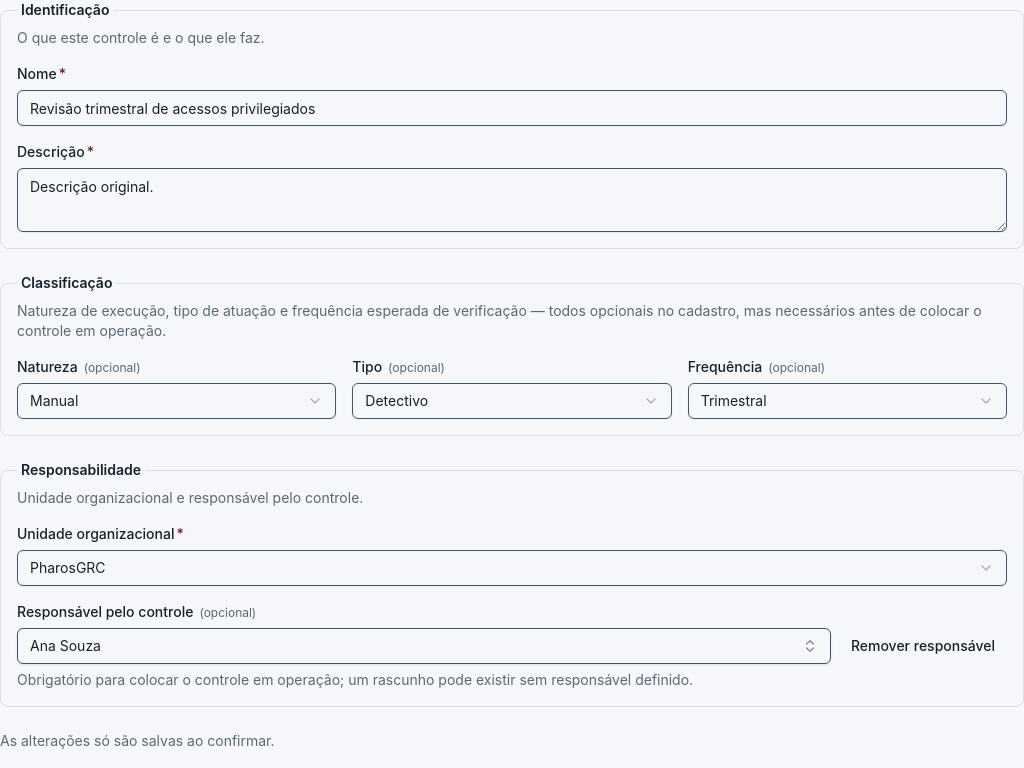
ControlForm › owner picker uses the ASSIGNMENT listing for the form’s selected org unit › requests the assignment listing for the org unit already selected, never the caller’s browse scope
Expected: the field labelled "Nome*" is enabled, [17,90,1007,126]
Click the dropdown named "Responsável pelo controle" at (65, 646), box [17,628,831,664]
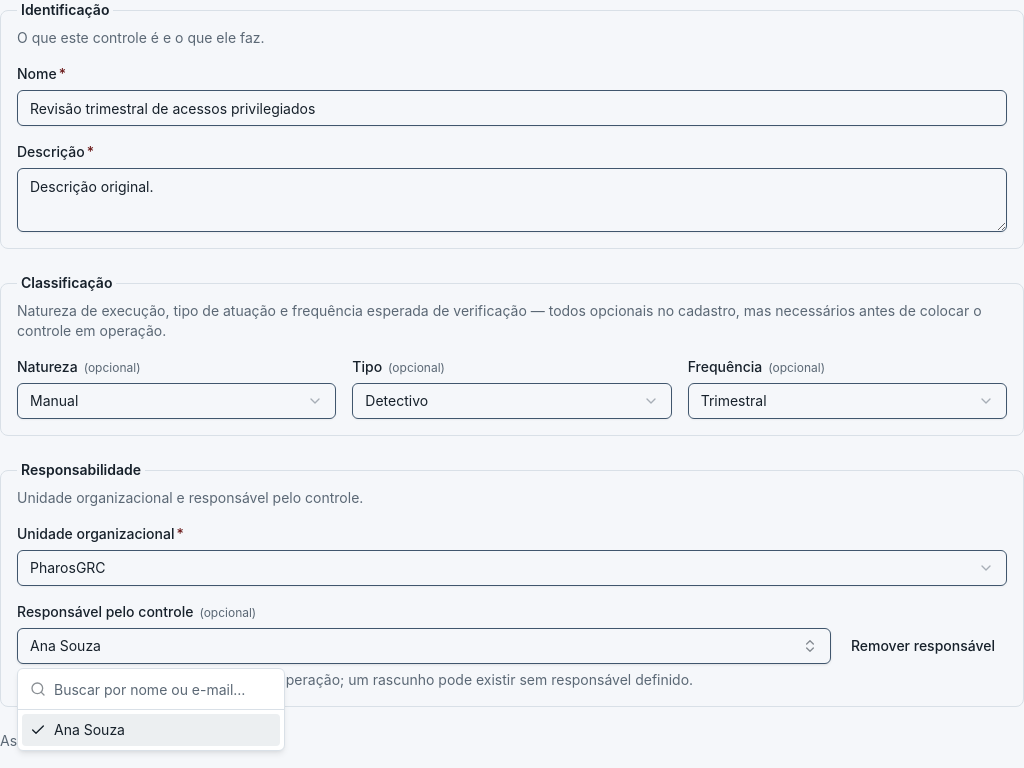
Expected: the option "Ana Souza" is shown, [22,714,280,746]
